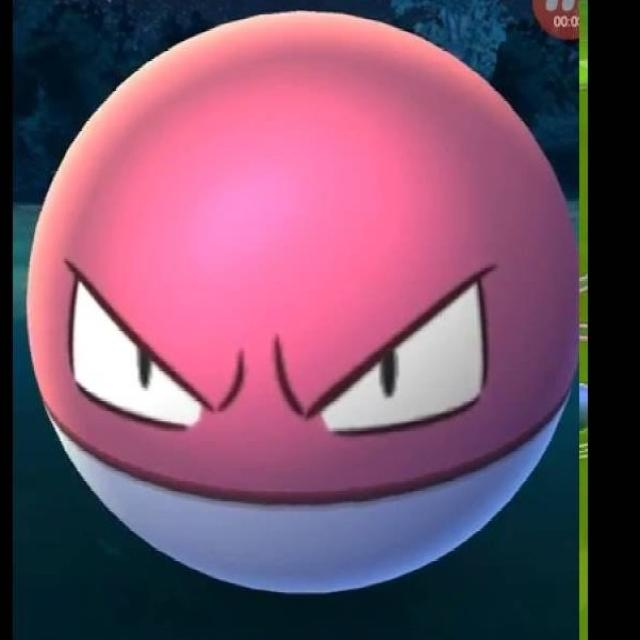Voltorb: (26, 7, 582, 600)
